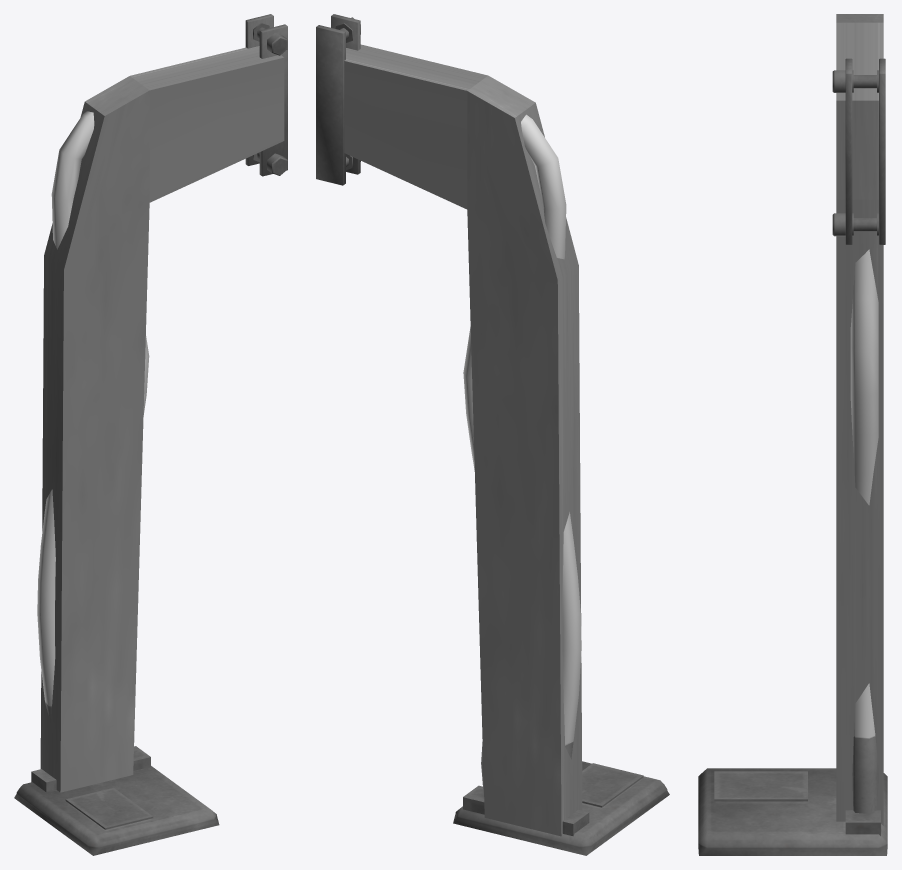
File: SFM_ElectricCable_floorBox.FBX
3 renders of one model, left to right at view 1: azimuth 30°, elevation 25°; view 2: azimuth 150°, elevation 25°; view 3: azimuth 270°, elevation 25°, orthographic. The views are drawn at different scales.
Parts seen in each view (by area): view 1: SFM_ElectricCable_floorBox_Colider, SFM_ElectricCable_floorBox_LOD0; view 2: SFM_ElectricCable_floorBox_Colider, SFM_ElectricCable_floorBox_LOD0; view 3: SFM_ElectricCable_floorBox_LOD0, SFM_ElectricCable_floorBox_Colider.
Part boxes in pixels (bbox=[...]): SFM_ElectricCable_floorBox_Colider: bbox=[40, 46, 284, 792]; SFM_ElectricCable_floorBox_LOD0: bbox=[14, 14, 287, 855]; SFM_ElectricCable_floorBox_Colider: bbox=[344, 44, 582, 836]; SFM_ElectricCable_floorBox_LOD0: bbox=[316, 14, 669, 855]; SFM_ElectricCable_floorBox_LOD0: bbox=[698, 58, 887, 855]; SFM_ElectricCable_floorBox_Colider: bbox=[836, 14, 883, 825].
Size of what is drawn, in the model's own units: 25.9 by 69.34 by 13.88.
